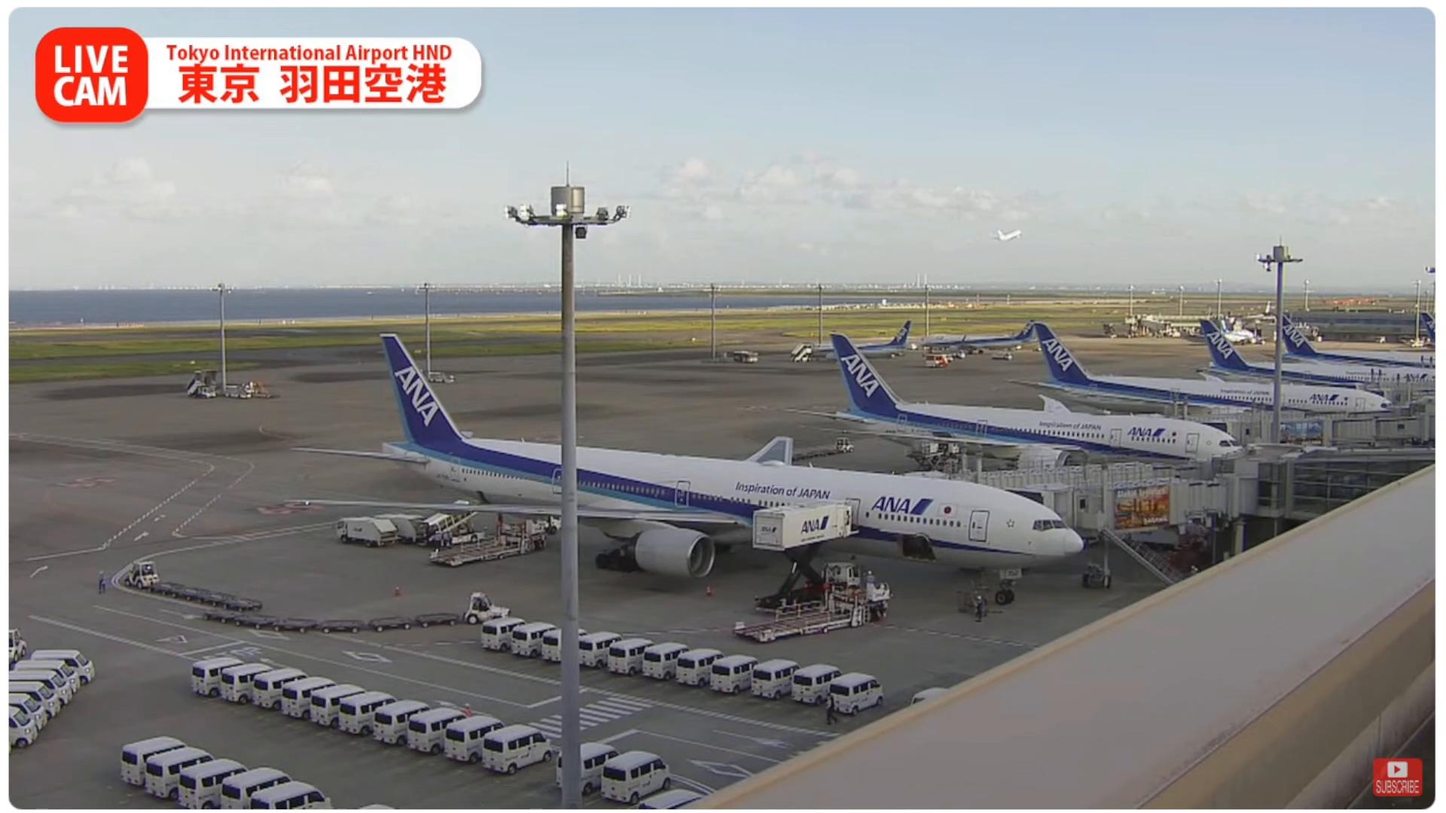Aerobridge: (990, 474, 1217, 523), (903, 458, 1204, 486)
Airplane: (297, 333, 1082, 582)
Baggage truck: (336, 514, 398, 545), (378, 512, 423, 540)
Catering: (751, 501, 860, 615)
Dolly: (202, 608, 463, 635), (144, 582, 263, 612)
JCPL: (737, 565, 886, 641), (429, 519, 546, 566)
Skyloader: (420, 510, 487, 544)
Tractor: (465, 591, 515, 628), (123, 563, 161, 587)
Window: (1253, 443, 1435, 520)
